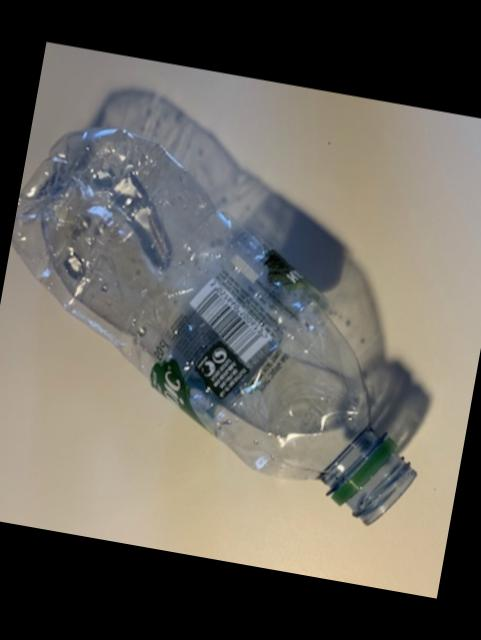plastic: (10, 87, 423, 522)
